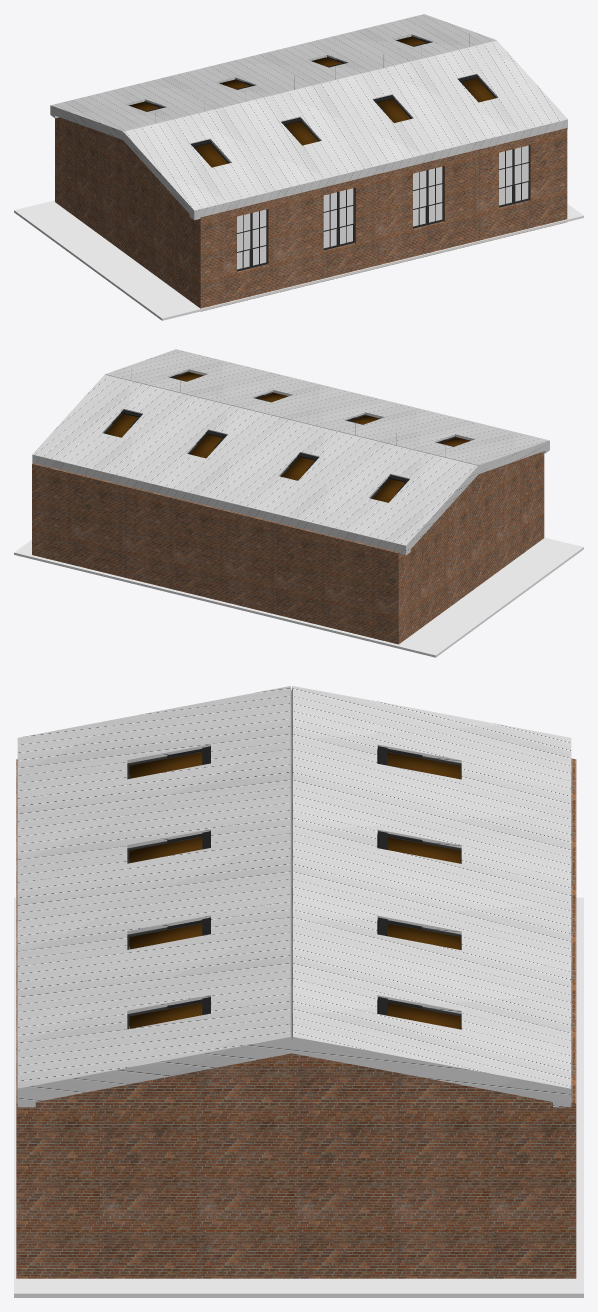
File: Loft_04.gltf
3 views of the same model, one above another, from view 1: azimuth 30°, elevation 25°; view 2: azimuth 150°, elevation 25°; view 3: azimuth 270°, elevation 25° (orthographic). The views are drawn at different scales.
Visible parts, largest first — view 1: Line877524582, Rectangle754610, Box230, modern_82_800_steklo009, modern_82_800_steklo005, modern_82_800_steklo002, modern_82_800_steklo007, Box583, Box589, Box586, Box592, modern_82_800_steklo003 (+7 smaller); view 2: Line877524582, Rectangle754610, Box230, Box229, Box243, Box247, Box245; view 3: Line877524582, Rectangle754610, Box230, Box247, Box251, Box245, Box243, Box229, Box248, Box254, Box253.
Part boxes in pixels (x1,y1,x2,y2): Line877524582: (50, 14, 567, 220); Rectangle754610: (55, 117, 567, 311); Box230: (14, 200, 583, 320); modern_82_800_steklo009: (499, 145, 528, 187); modern_82_800_steklo005: (237, 209, 266, 251); modern_82_800_steklo002: (323, 188, 353, 230); modern_82_800_steklo007: (413, 166, 442, 208); Box583: (323, 188, 354, 249); Box589: (413, 166, 443, 228); Box586: (237, 209, 267, 271); Box592: (499, 145, 529, 207); modern_82_800_steklo003: (323, 225, 352, 248); Line877524582: (32, 349, 549, 555); Rectangle754610: (32, 450, 544, 644); Box230: (14, 537, 583, 657); Box229: (189, 434, 222, 458); Box243: (105, 413, 137, 437); Box247: (372, 479, 405, 502); Box245: (281, 457, 314, 480); Line877524582: (17, 686, 571, 1107); Rectangle754610: (16, 758, 576, 1278); Box230: (14, 897, 583, 1297); Box247: (387, 752, 460, 779); Box251: (129, 752, 202, 778); Box245: (387, 837, 460, 863); Box243: (387, 1003, 460, 1029); Box229: (387, 923, 460, 949); Box248: (129, 837, 202, 863); Box254: (129, 1003, 202, 1028); Box253: (129, 923, 202, 949).
Bounding box in the file's own units: 14.49 × 4.68 × 8.81.
Materials: 13 (2 with a texture image).
